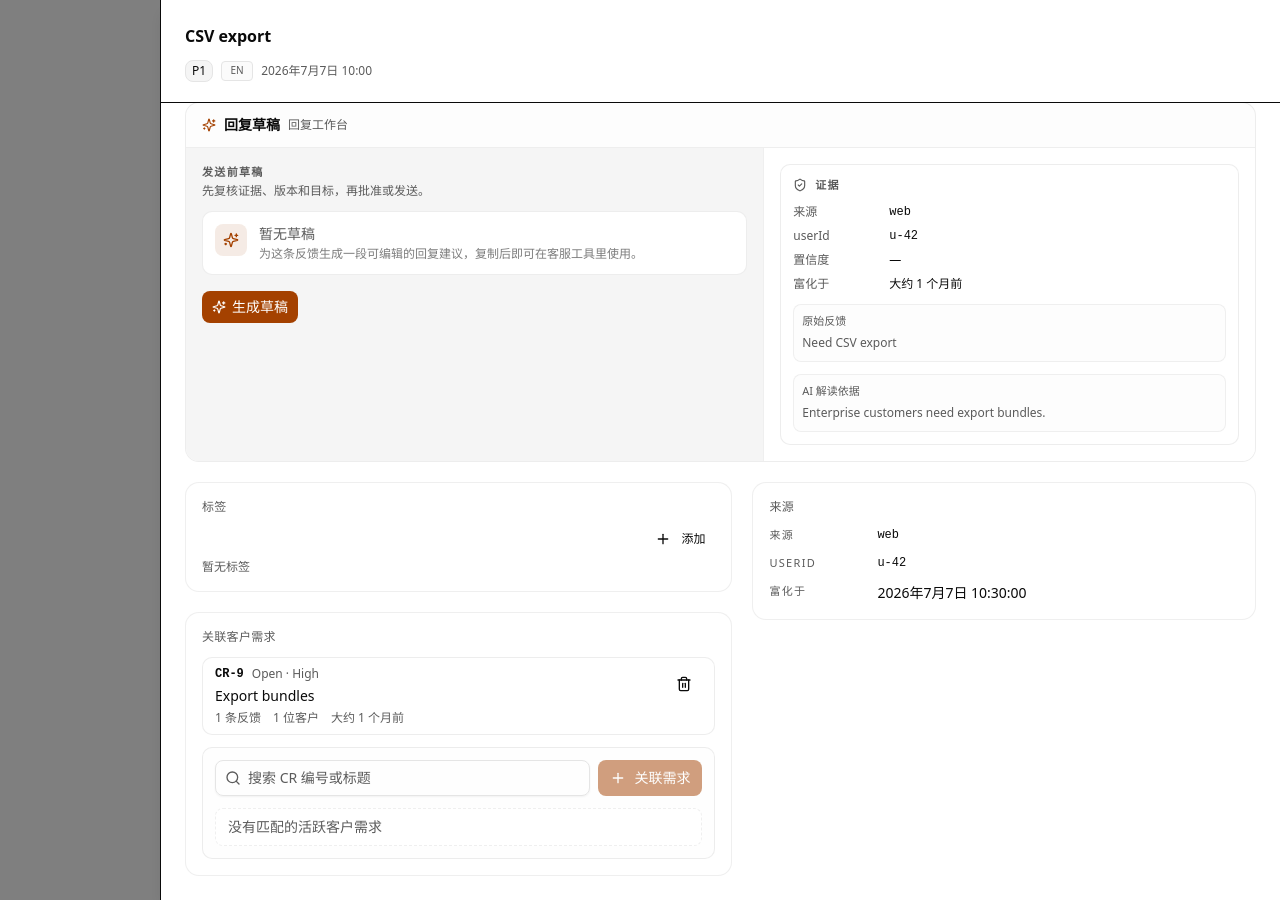
Scenario: FeedbackDetailSheet › renders linked customer requests and unlinks them from the feedback detail
This screenshot has width=1280, height=900.
(page scrolled)
Expected: the heading "关联客户需求" is shown, left=202, top=628, right=276, bottom=645
Expected: the text "CR-9" is shown, left=215, top=666, right=244, bottom=682
Click the button named "解除关联".
click(684, 684)  # box left=666, top=666, right=702, bottom=702
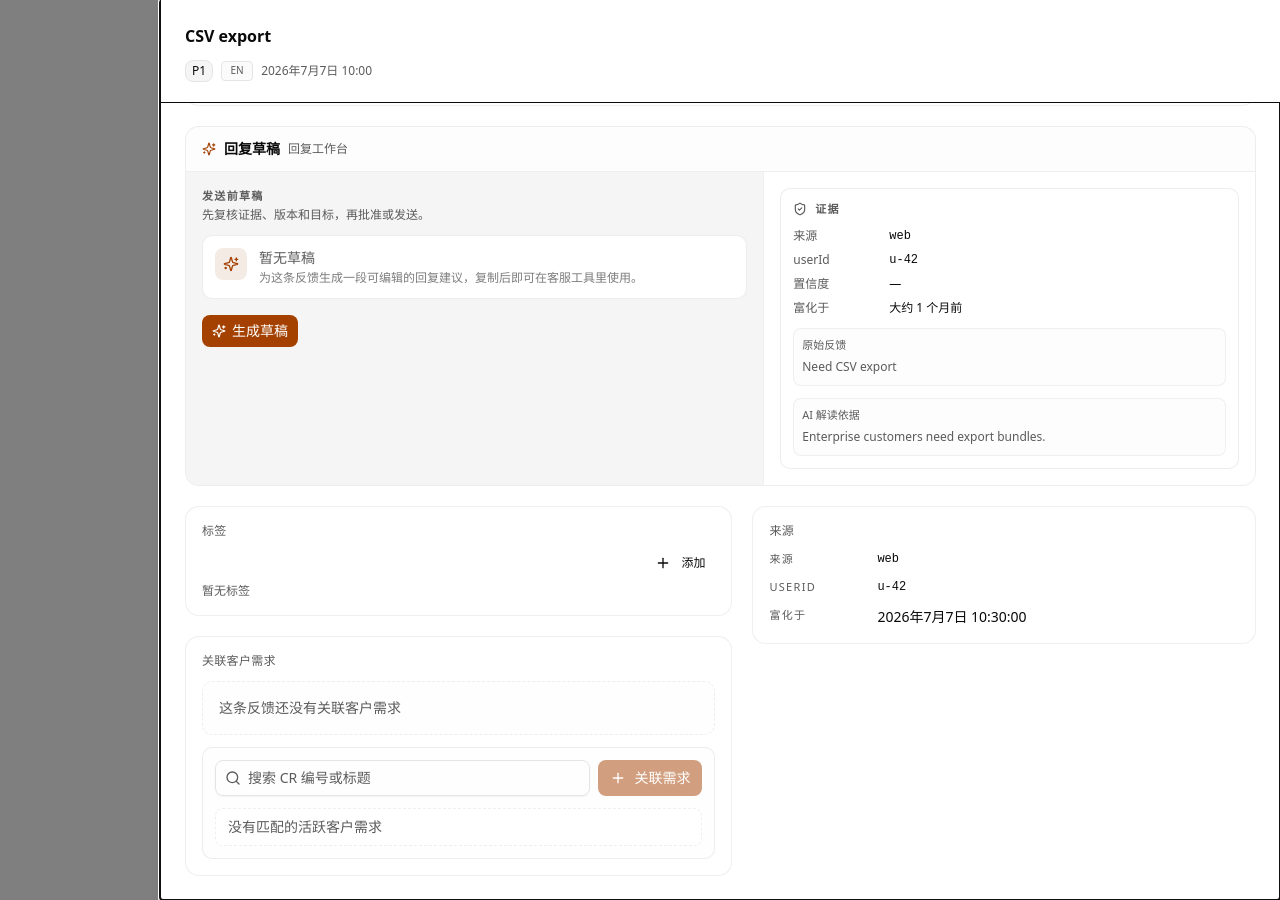
Expected: the text "这条反馈还没有关联客户需求" is shown, left=202, top=681, right=715, bottom=735
